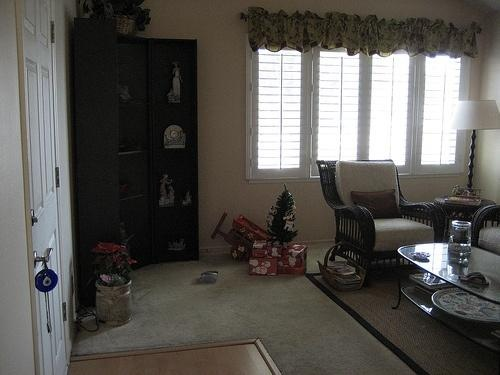chair: (316, 160, 448, 288)
pottedplant: (83, 241, 135, 328)
